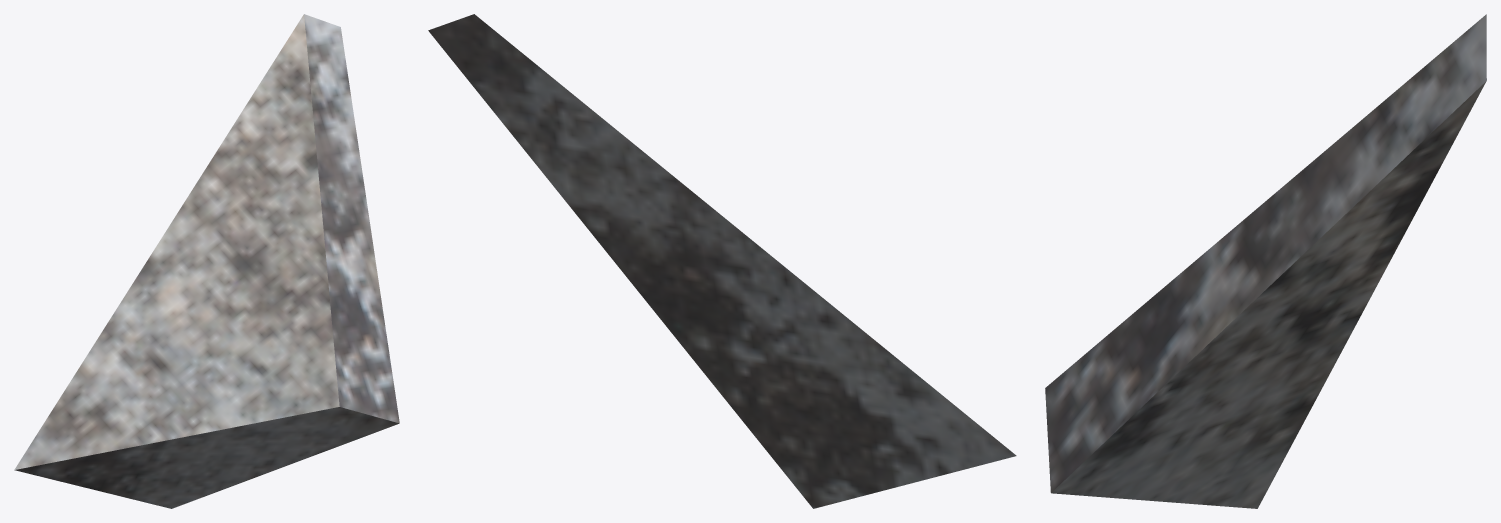
File: Asteroid_Large_001_02_002_03_010.fbx
The picture shows the model from 3 angles, left to right: view 1: azimuth 30°, elevation 25°; view 2: azimuth 150°, elevation 25°; view 3: azimuth 270°, elevation 25°; orthographic projection. The views are drawn at different scales.
Visible parts, largest first — view 1: Asteroid_Large_001_02_002_03_010; view 2: Asteroid_Large_001_02_002_03_010; view 3: Asteroid_Large_001_02_002_03_010.
Part boxes in pixels (x1,y1,x2,y2): Asteroid_Large_001_02_002_03_010: (14,14,399,508); Asteroid_Large_001_02_002_03_010: (428,14,1016,508); Asteroid_Large_001_02_002_03_010: (1045,14,1486,508).
Bounding box in the file's own units: 4.24 × 4.03 × 2.45.
